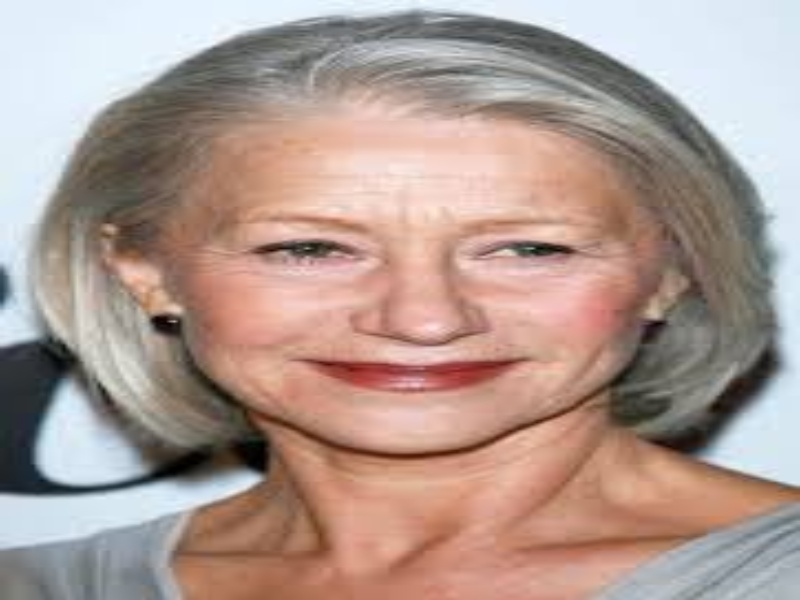face: (199, 141, 626, 428)
